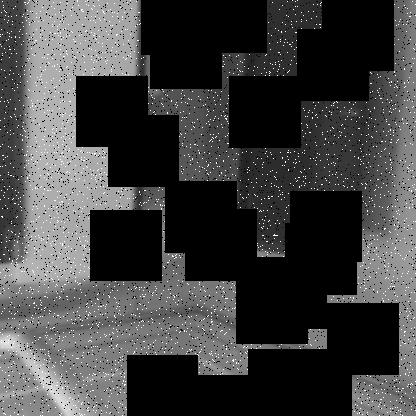Porte: (132, 1, 376, 269)
